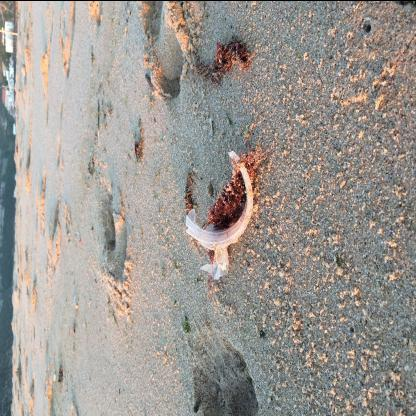plastik: (184, 147, 254, 281)
